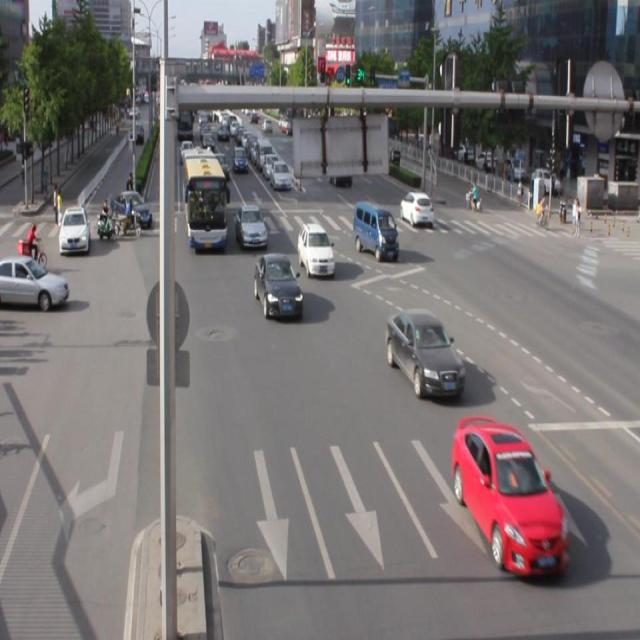car: (451, 416, 568, 576), (386, 307, 464, 398), (254, 252, 303, 319), (296, 221, 334, 276), (237, 201, 267, 249)
truck: (353, 201, 399, 259)
